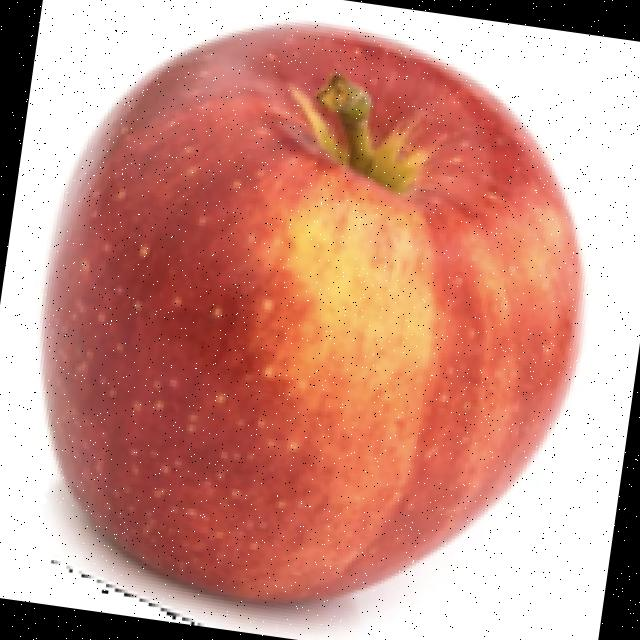apple: (37, 16, 591, 639)
